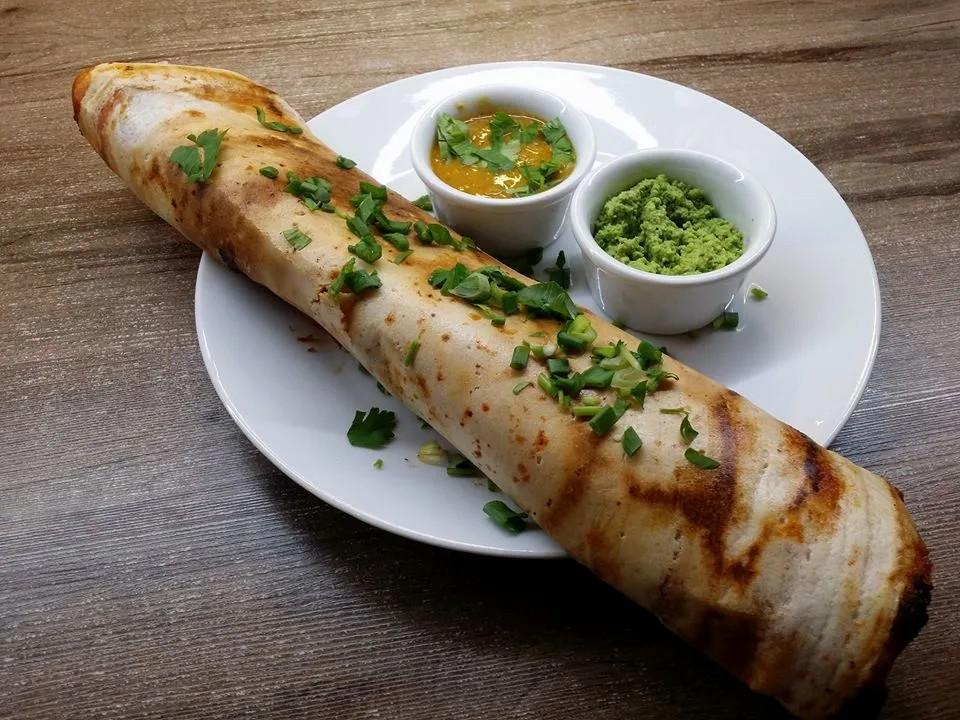Dosa: (74, 63, 937, 720)
GreenChutney: (592, 176, 746, 276)
